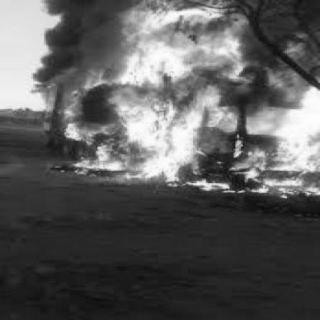Fire: (18, 0, 320, 188)
